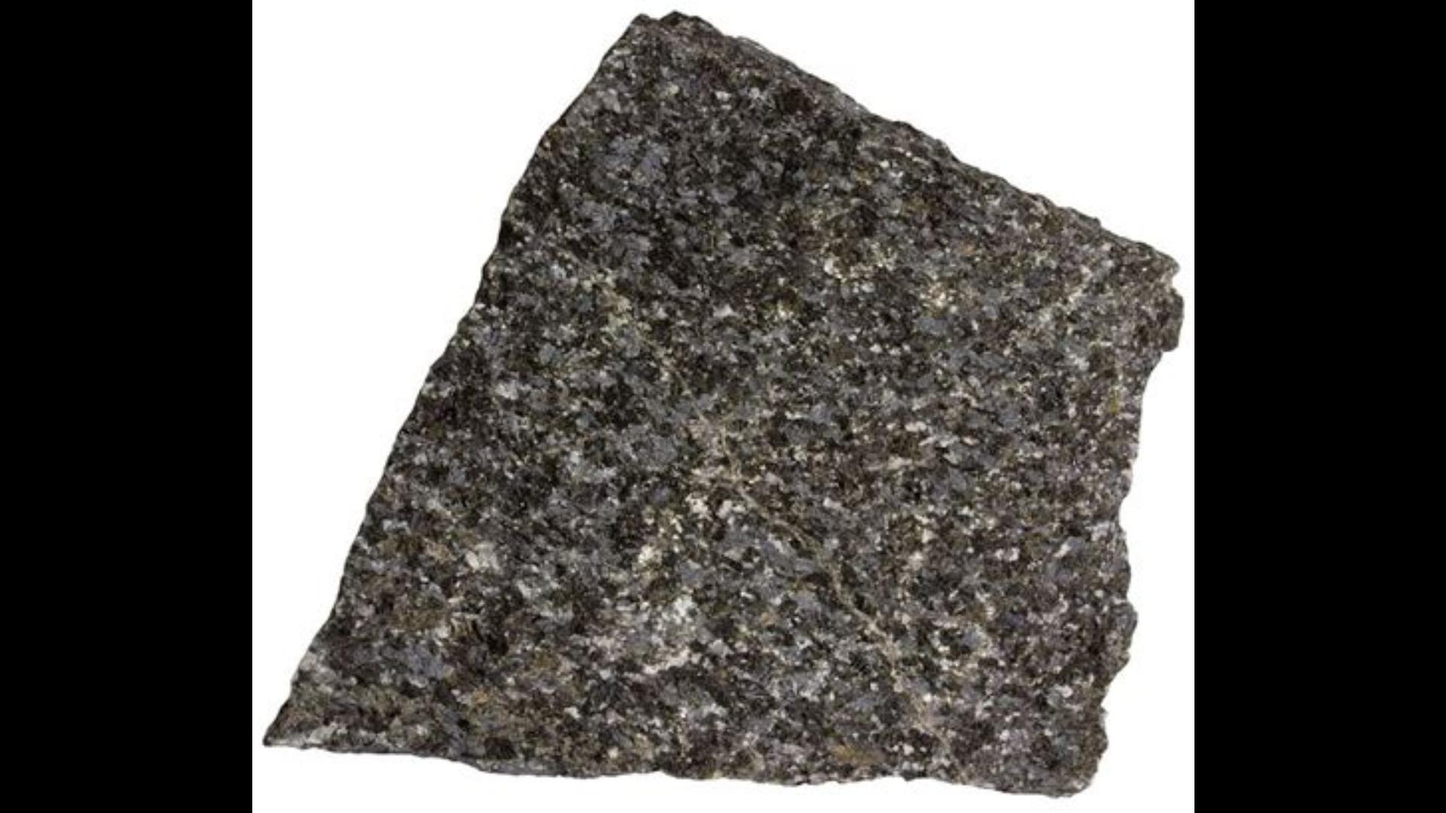rock: (265, 18, 1176, 785)
